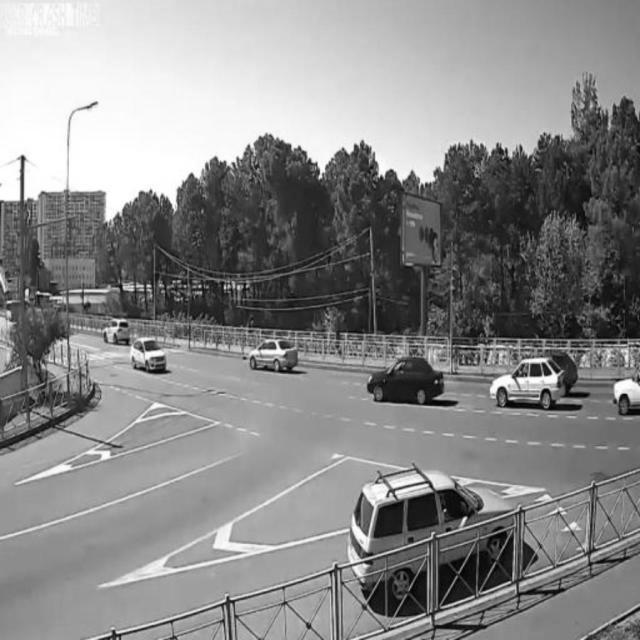vehicle: (348, 467, 512, 587), (368, 353, 444, 408), (490, 358, 566, 410), (246, 336, 300, 376), (130, 335, 168, 377), (611, 361, 640, 412), (101, 317, 131, 344)
